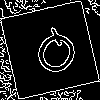Q: (25, 25, 84, 87)
